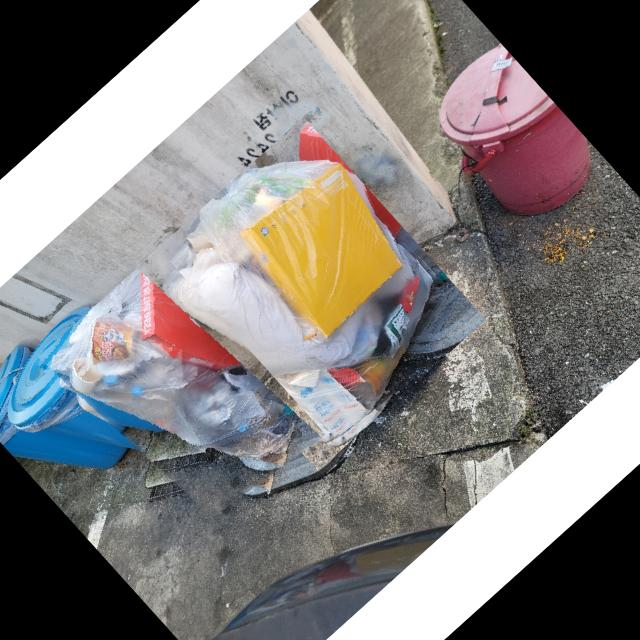other_trashbag: (153, 160, 430, 452), (51, 265, 292, 472)
